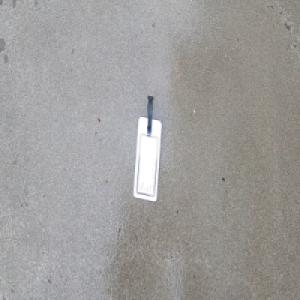LuggageTag: (131, 95, 162, 202)
